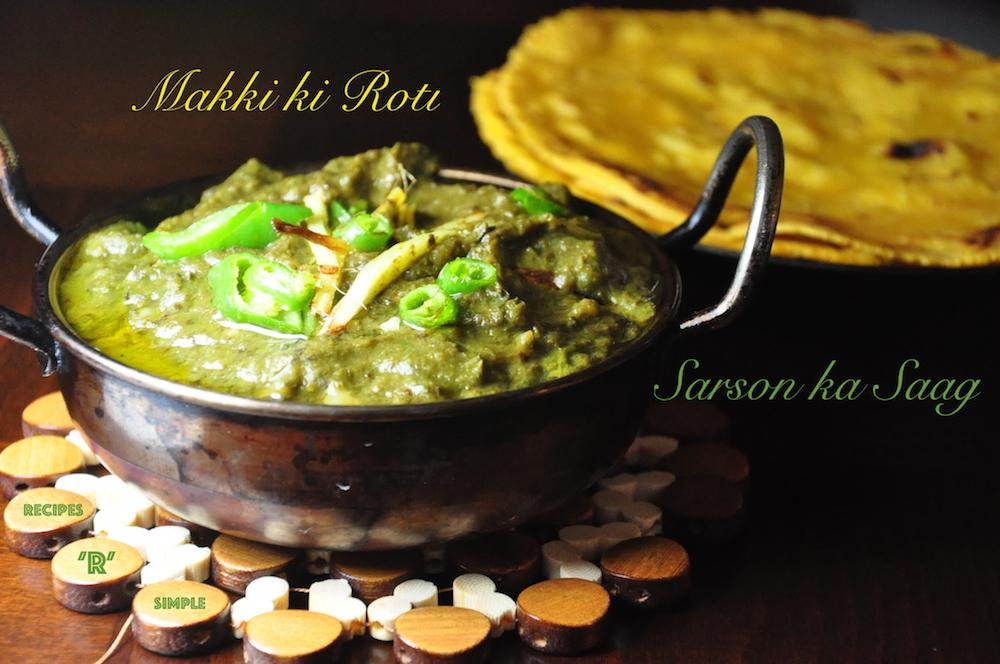saag: (65, 163, 660, 395)
